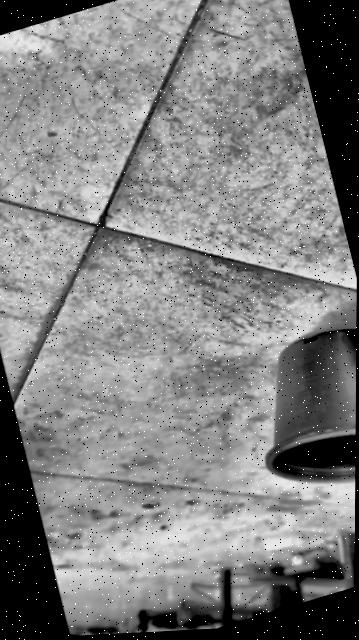pot: (237, 320, 356, 512)
